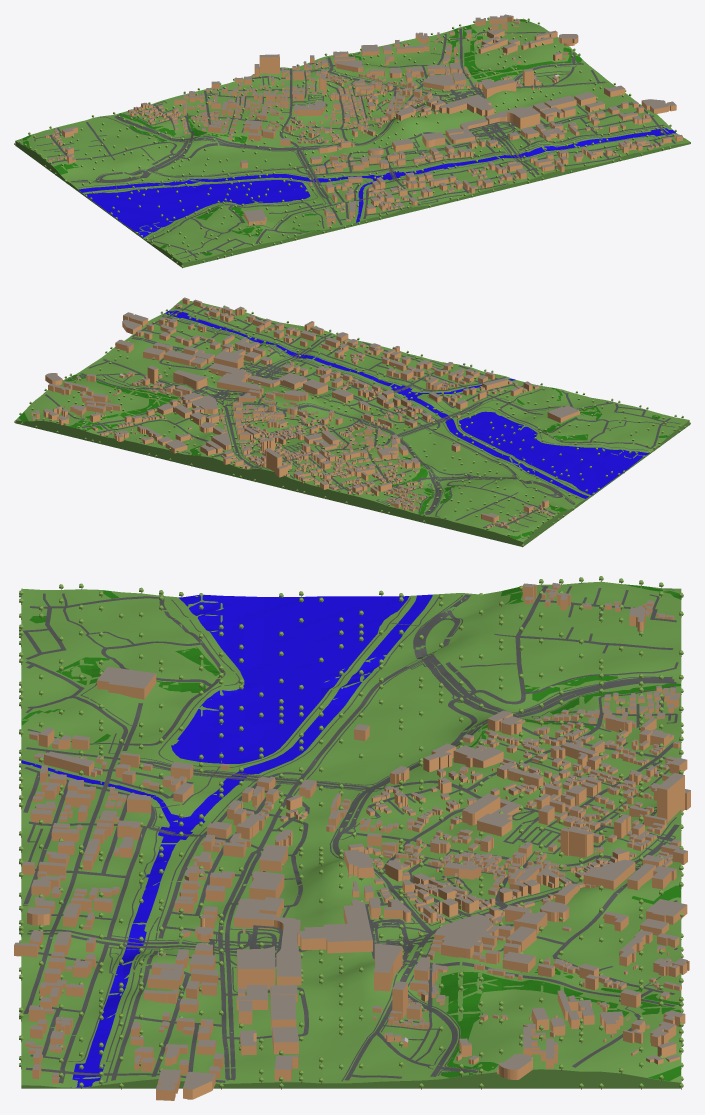
Rendered from mito2.fbx.
The picture shows the model from 3 angles, top to bottom: view 1: azimuth 30°, elevation 25°; view 2: azimuth 150°, elevation 25°; view 3: azimuth 270°, elevation 25°; orthographic projection. The views are drawn at different scales.
Parts seen in each view (by area): view 1: Terrain, map_9.osm_buildings, map_9.osm_water, map_9.osm_roads_tertiary, map_9.osm_roads_unclassified, map_9.osm_paths_footway, map_9.osm_forest, map_9.osm_roads_service, map_9.osm_roads_primary, map_9.osm_roads_trunk, map_9.osm_roads_pedestrian; view 2: Terrain, map_9.osm_buildings, map_9.osm_water, map_9.osm_roads_tertiary, map_9.osm_roads_unclassified, map_9.osm_paths_footway, map_9.osm_forest, map_9.osm_roads_service, map_9.osm_roads_primary, map_9.osm_roads_trunk, map_9.osm_roads_pedestrian; view 3: Terrain, map_9.osm_buildings, map_9.osm_water, map_9.osm_roads_tertiary, map_9.osm_roads_unclassified, map_9.osm_forest, map_9.osm_paths_footway, map_9.osm_roads_service, map_9.osm_roads_primary, map_9.osm_roads_trunk, map_9.osm_roads_pedestrian, map_9.osm_roads_residential.
Part boxes in pixels (x1,y1,x2,y2): Terrain: (15,18,690,267); map_9.osm_buildings: (45,14,682,226); map_9.osm_water: (78,128,676,237); map_9.osm_roads_tertiary: (93,64,675,239); map_9.osm_roads_unclassified: (52,31,673,257); map_9.osm_paths_footway: (20,34,655,237); map_9.osm_forest: (22,19,582,255); map_9.osm_roads_service: (34,42,570,258); map_9.osm_roads_primary: (71,96,440,182); map_9.osm_roads_trunk: (115,57,583,141); map_9.osm_roads_pedestrian: (269,87,515,213); Terrain: (15,299,689,546); map_9.osm_buildings: (31,297,579,528); map_9.osm_water: (164,310,649,498); map_9.osm_roads_tertiary: (103,303,651,514); map_9.osm_roads_unclassified: (45,306,670,520); map_9.osm_paths_footway: (68,312,647,538); map_9.osm_forest: (18,375,669,539); map_9.osm_roads_service: (102,354,680,531); map_9.osm_roads_primary: (225,403,575,504); map_9.osm_roads_trunk: (80,373,441,514); map_9.osm_roads_pedestrian: (192,364,543,416); Terrain: (21,581,681,1088); map_9.osm_buildings: (14,583,690,1100); map_9.osm_water: (21,594,432,1087); map_9.osm_roads_tertiary: (23,598,676,1082); map_9.osm_roads_unclassified: (23,586,676,1083); map_9.osm_forest: (21,582,680,1081); map_9.osm_paths_footway: (67,588,676,1081); map_9.osm_roads_service: (25,586,678,1062); map_9.osm_roads_primary: (332,594,516,932); map_9.osm_roads_trunk: (400,678,679,1076); map_9.osm_roads_pedestrian: (122,703,463,963); map_9.osm_roads_residential: (23,600,676,1078).
Bounding box in the file's own units: 186919 × 10353 × 104667.
